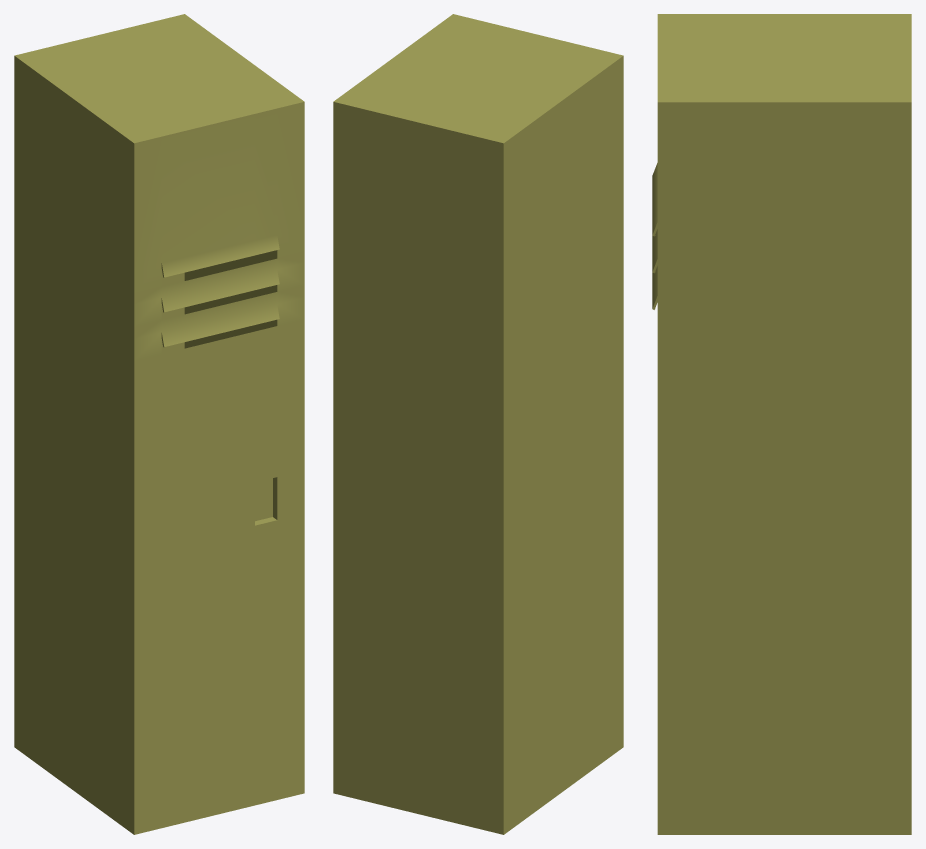
The model's file is LockerModel_Gold.fbx.
3 views of the same model, side by side, from view 1: azimuth 30°, elevation 25°; view 2: azimuth 150°, elevation 25°; view 3: azimuth 270°, elevation 25° (orthographic). The views are drawn at different scales.
Visible parts, largest first — view 1: polySurface1; view 2: polySurface1; view 3: polySurface1.
Part boxes in pixels (bbox=[...]): polySurface1: bbox=[14, 14, 304, 834]; polySurface1: bbox=[333, 14, 623, 834]; polySurface1: bbox=[652, 14, 911, 834].
Size of the model in its own units: 1.55 by 6 by 1.92.
